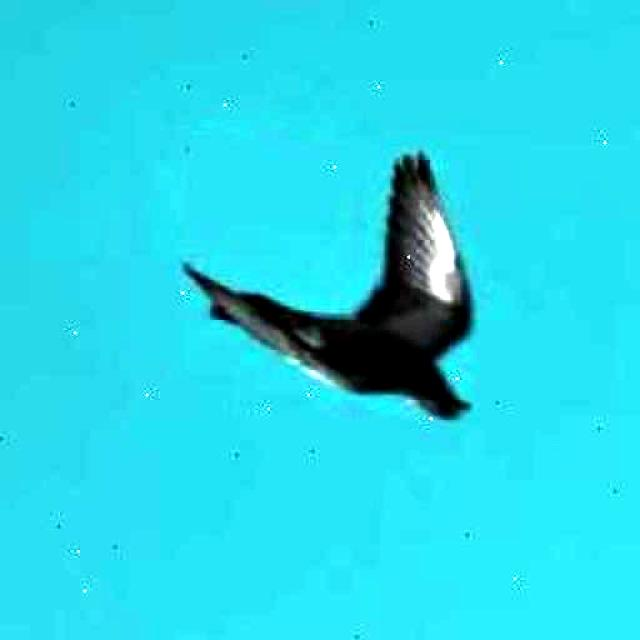airplane: (169, 134, 489, 424)
